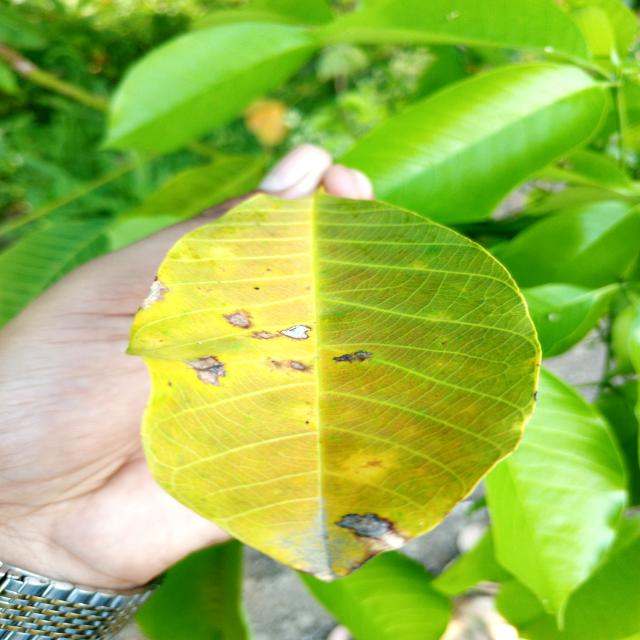Colletotrichum: (253, 287, 260, 290)
Leaf-Blight: (280, 324, 310, 338)
